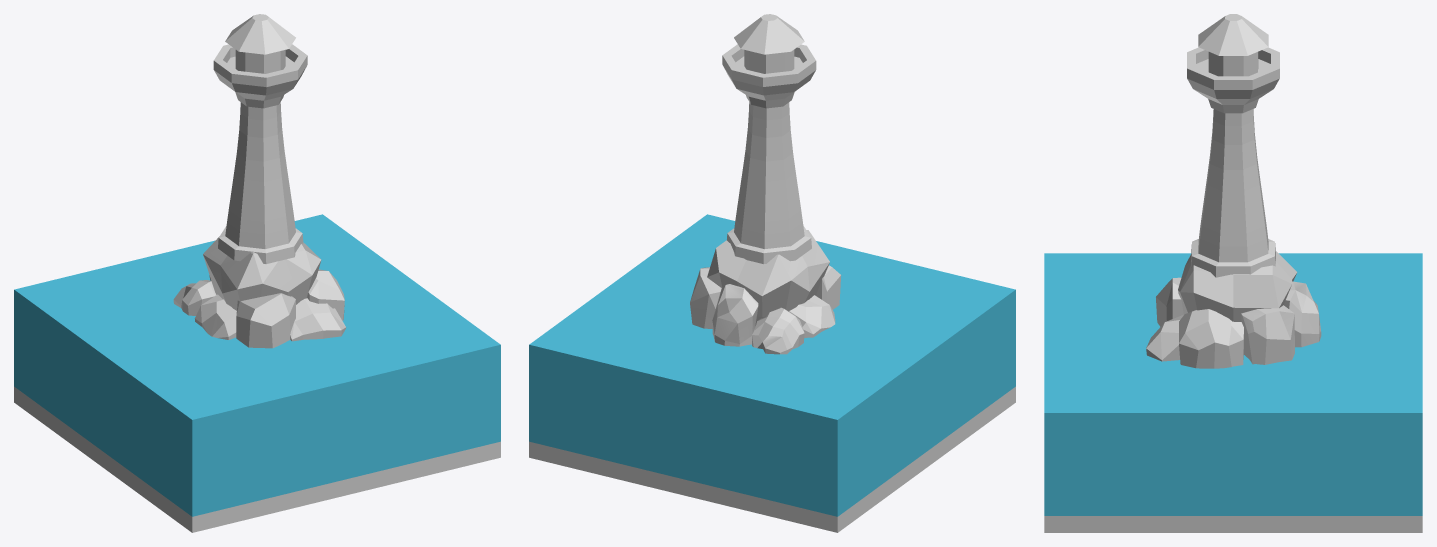
The picture shows the model from 3 angles, left to right: view 1: azimuth 30°, elevation 25°; view 2: azimuth 150°, elevation 25°; view 3: azimuth 270°, elevation 25°; orthographic projection. The views are drawn at different scales.
Parts seen in each view (by area): view 1: Bridge.001; view 2: Bridge.001; view 3: Bridge.001.
Part boxes in pixels (x1,y1,x2,y2): Bridge.001: (14,14,500,532); Bridge.001: (529,14,1015,532); Bridge.001: (1044,14,1422,532).
Bounding box in the file's own units: 200 × 255 × 200.
